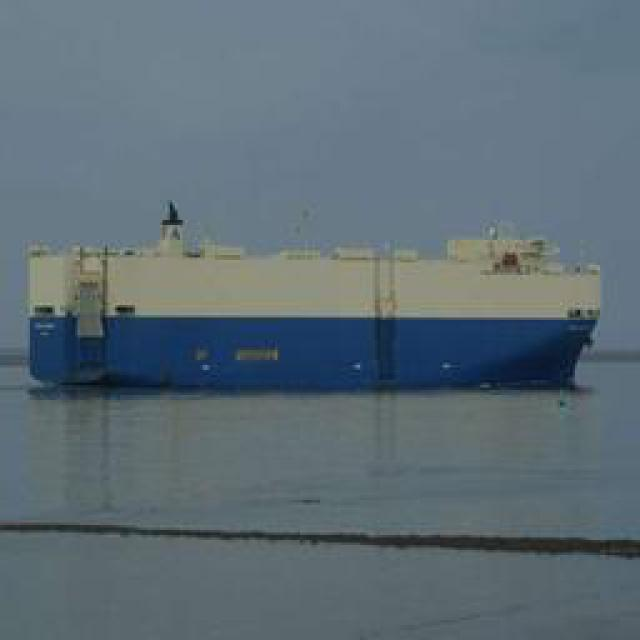Ship: (47, 245, 607, 393)
